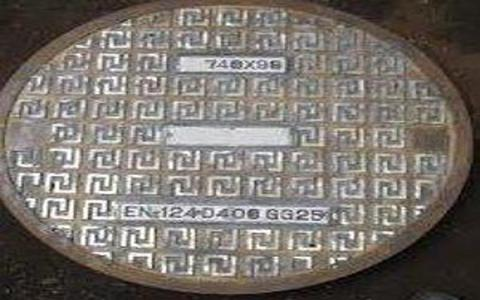proper manhole: (2, 1, 471, 296)
